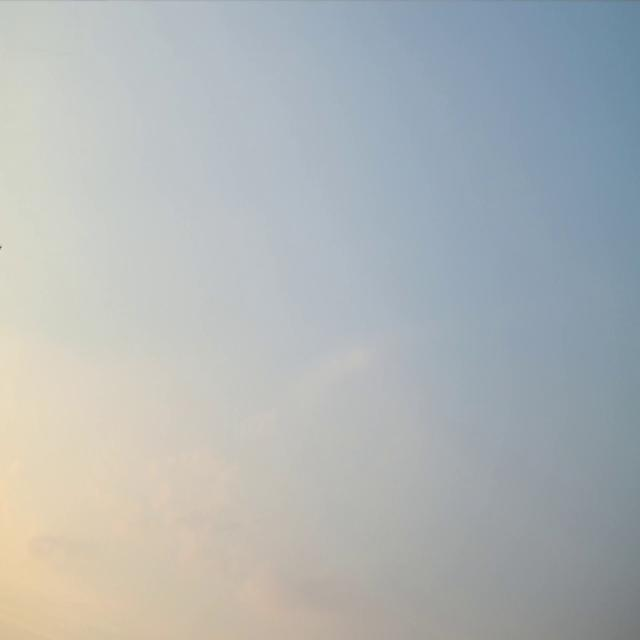UAV: (0, 242, 2, 250)
